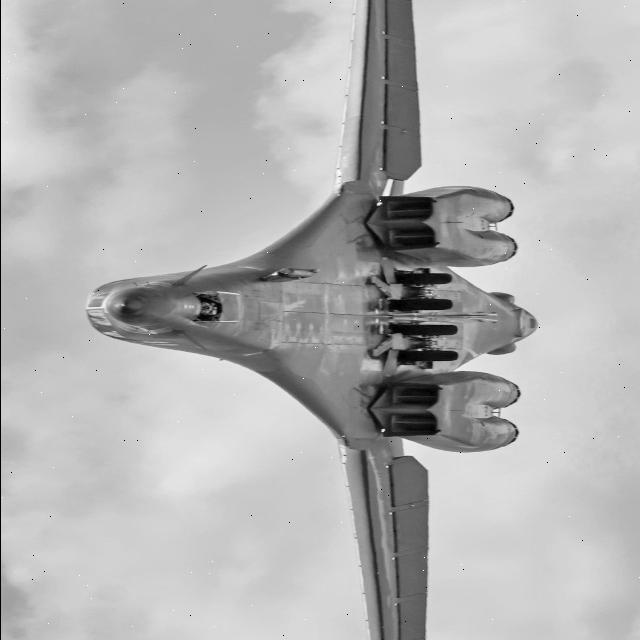B1: (68, 0, 578, 640)
